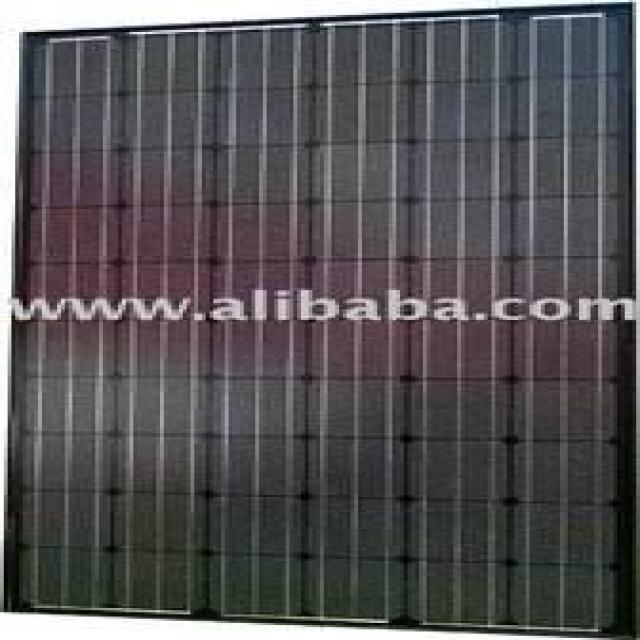clean-solar-panel: (9, 6, 629, 633)
